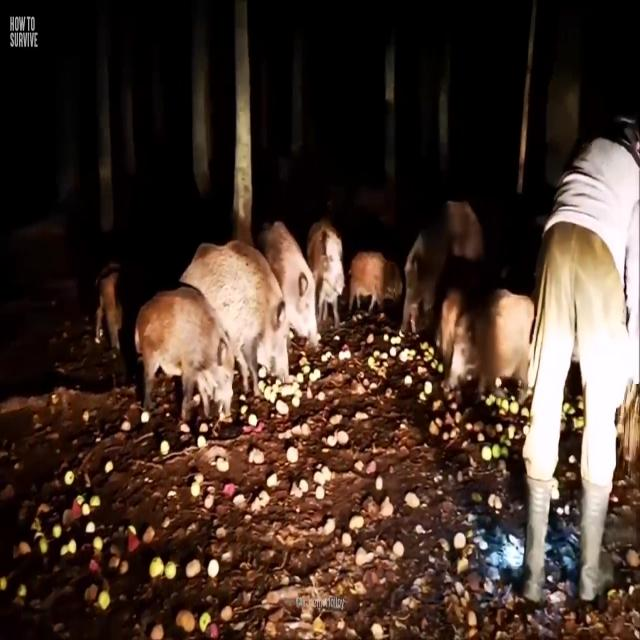pig: (128, 278, 240, 450), (182, 227, 296, 384), (262, 205, 319, 362), (343, 246, 403, 324)
